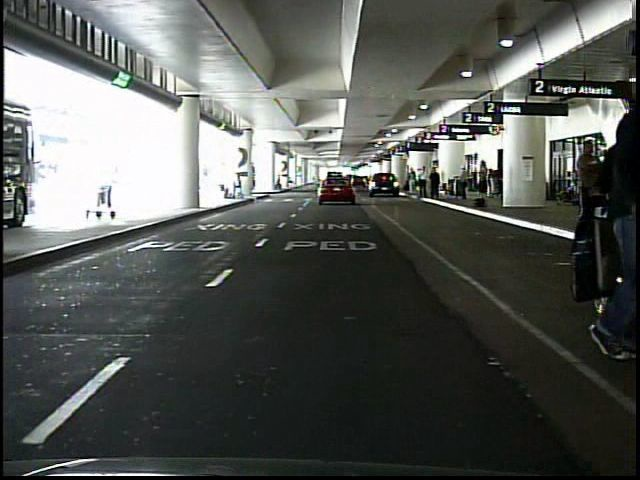person: (569, 73, 640, 363), (573, 138, 607, 251), (475, 161, 489, 208), (457, 166, 471, 203), (429, 167, 442, 202), (417, 165, 429, 200), (407, 168, 418, 197), (232, 173, 243, 199), (275, 172, 284, 189)
